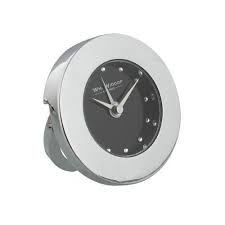alarm_clock: (45, 32, 181, 182)
